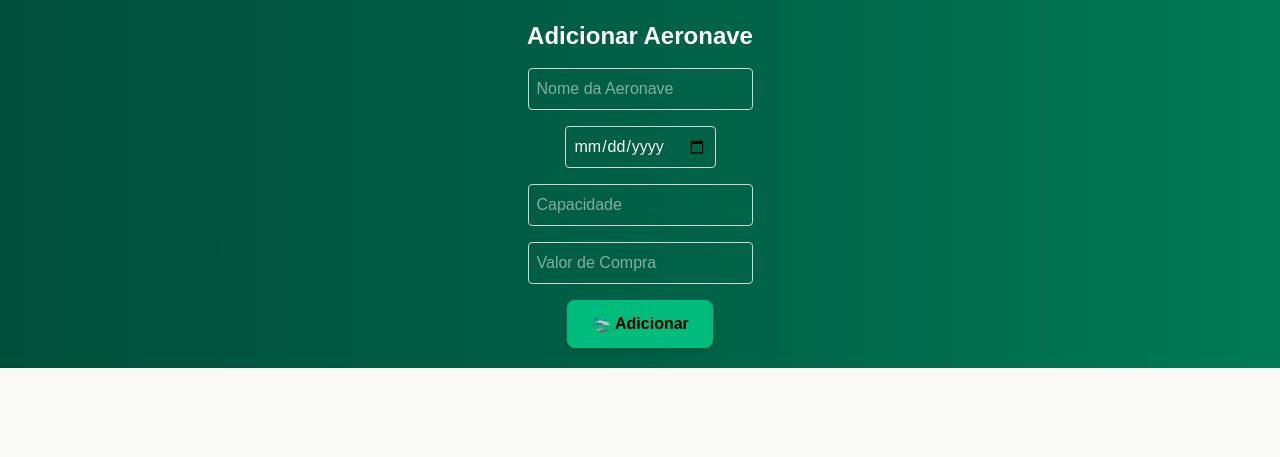
Componente SignInAirplane › deve exibir mensagem de erro ao enviar formulário vazio
The image size is (1280, 457).
Click the button with test id "add-plane": (640, 324) [567,300,713,348]
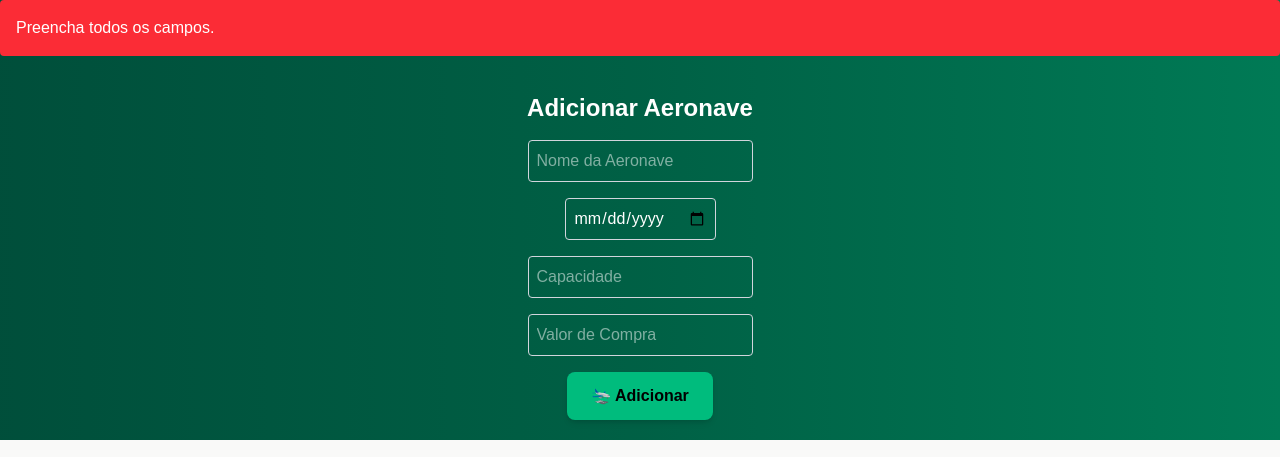
Result: the text "Preencha todos os campos." is shown at [0,0,1279,56]
